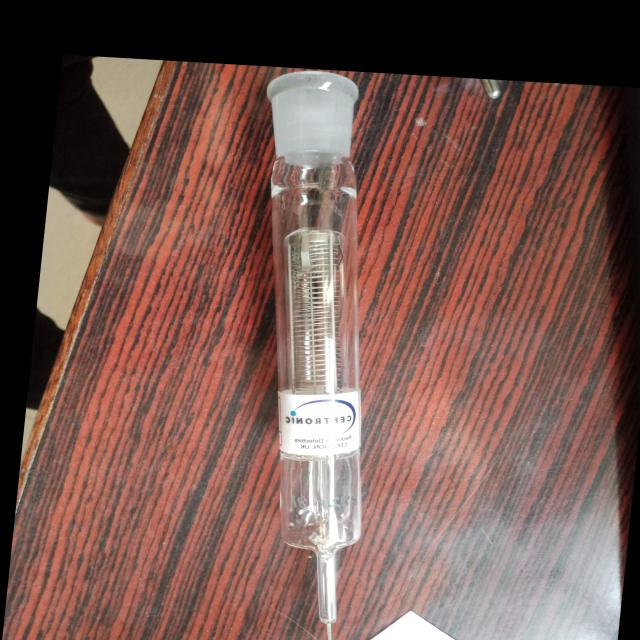Helium Lamp: (196, 66, 418, 640)
